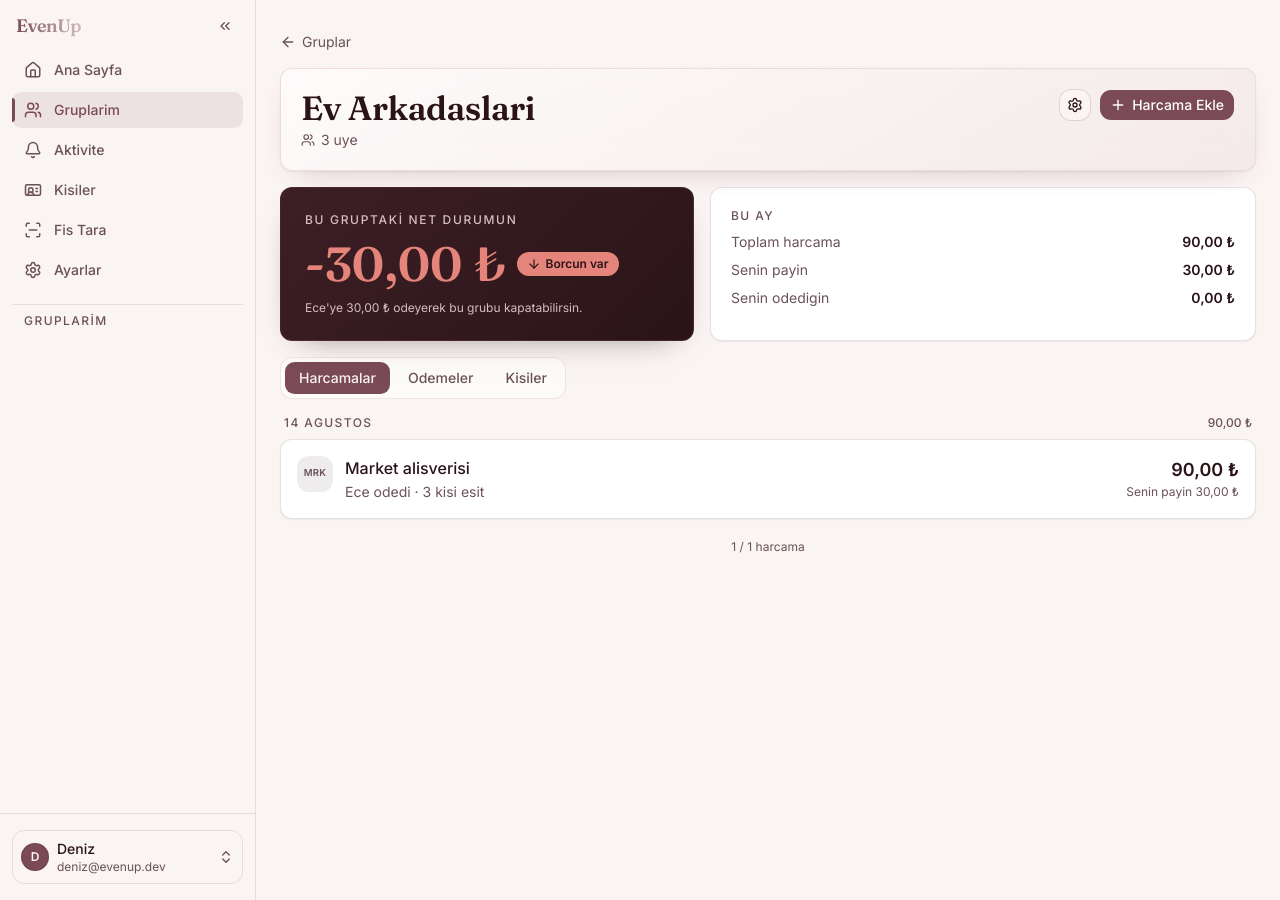
Test: kisiler sekmesi — takma isimler › takma ismi olmayan uyede menude "Takma isim ver" yazar
Press the mouse on the tab "Kisiler": (526, 378) x1=491 y1=362 x2=561 y2=394
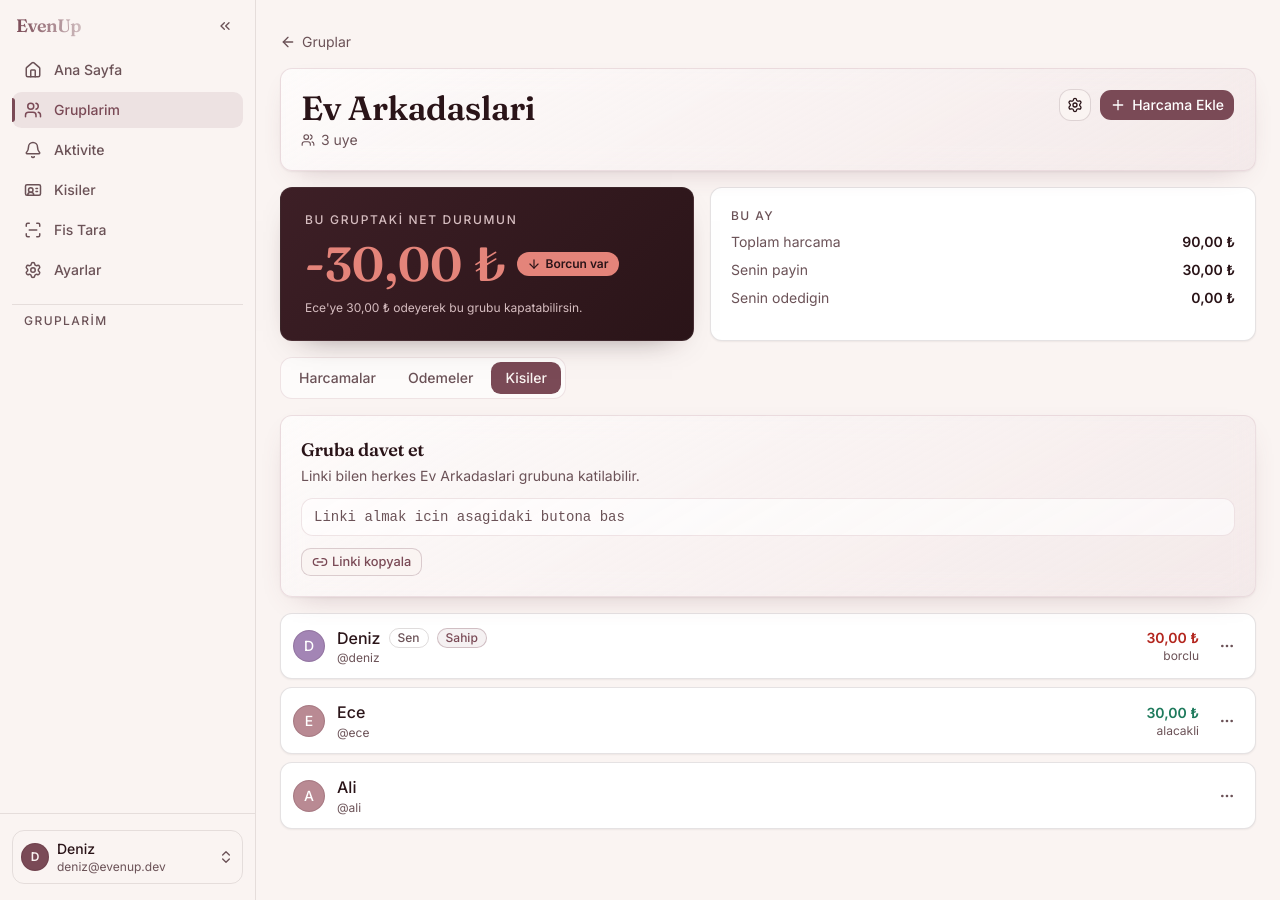
Press the mouse on the button named "Ece icin islemler": (1227, 721) x1=1211 y1=705 x2=1243 y2=737
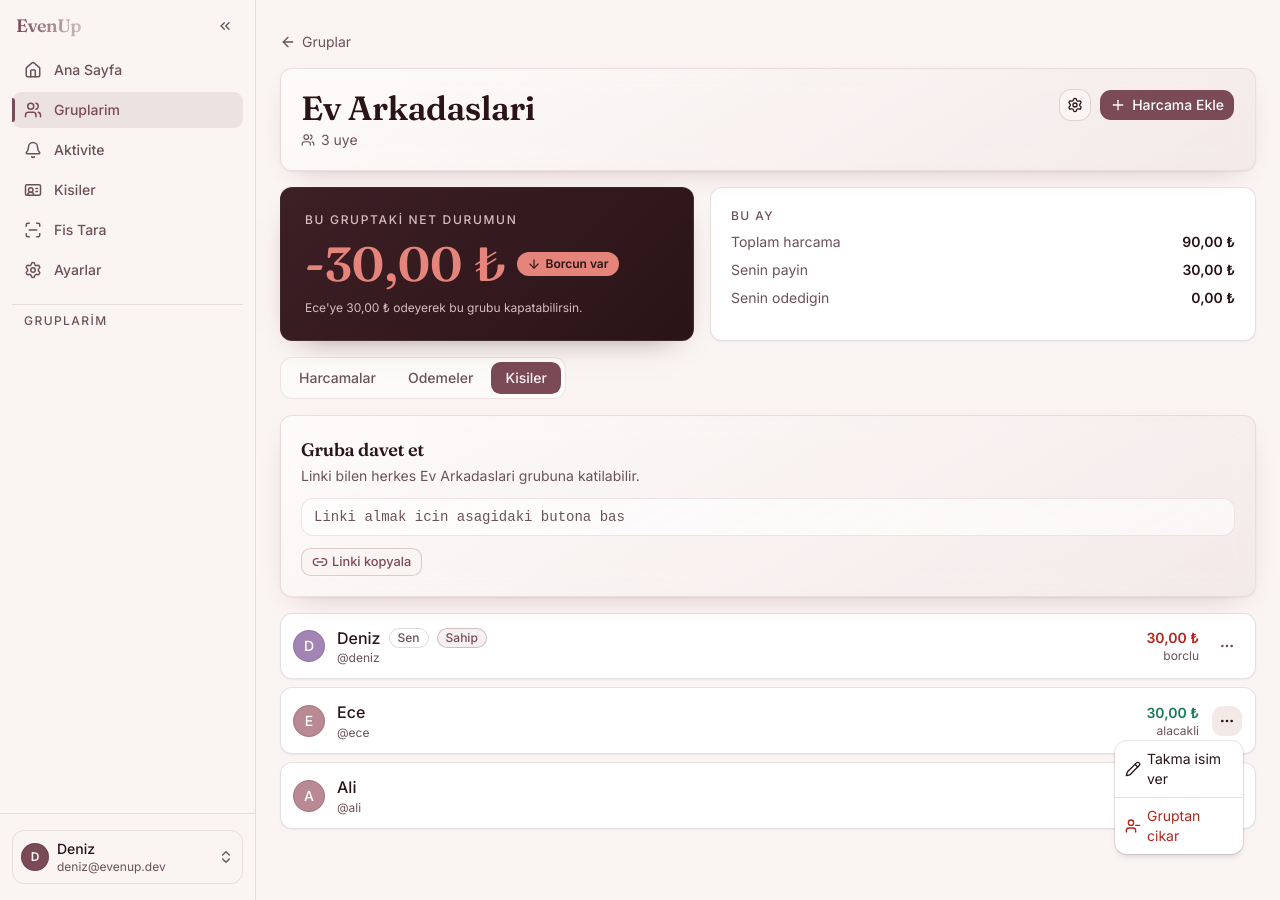
Check: the menu item "Takma isim ver" is shown, box x1=1125 y1=750 x2=1221 y2=787
